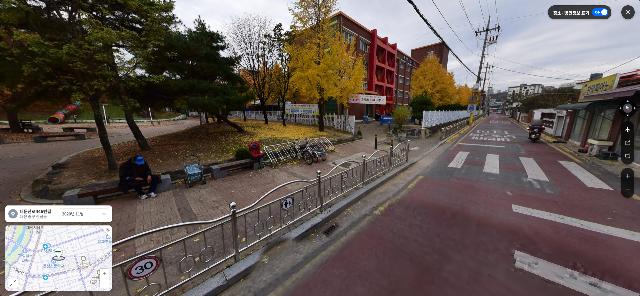ginkgo: (284, 0, 370, 132), (259, 23, 300, 127), (409, 52, 458, 108), (454, 84, 480, 108)
other: (0, 0, 183, 173), (128, 14, 253, 132), (220, 6, 282, 124), (411, 95, 434, 124), (390, 105, 412, 131)
